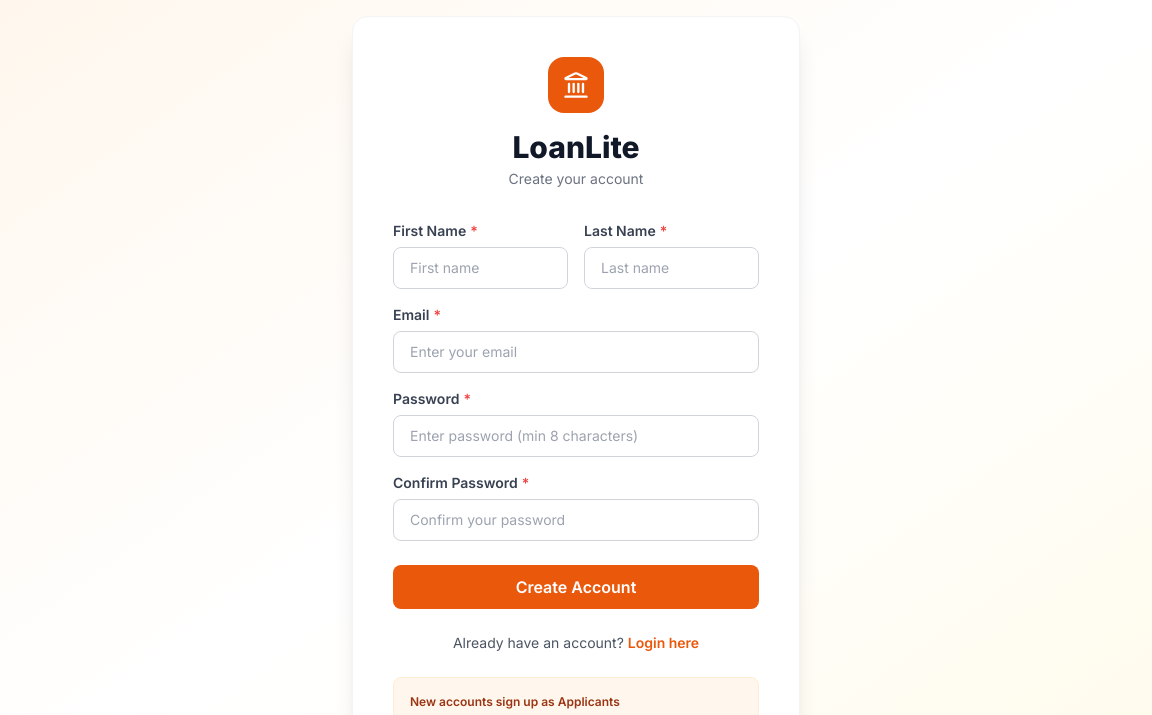
it: Signup — validation › rejects mismatched password confirmation
Type "Ada" into the field labelled "First Name*" at x=480, y=268, box 393,247 -> 568,289
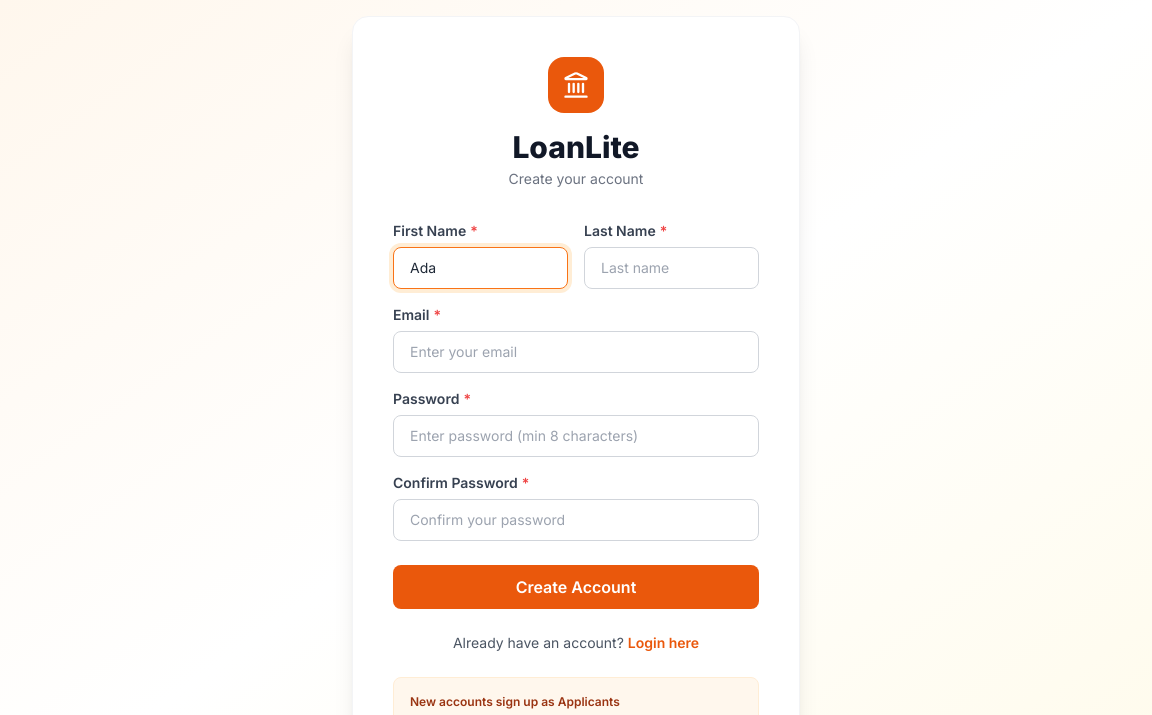
Type "Lovelace" into the field labelled "Last Name*" at x=672, y=268, box 584,247 -> 759,289
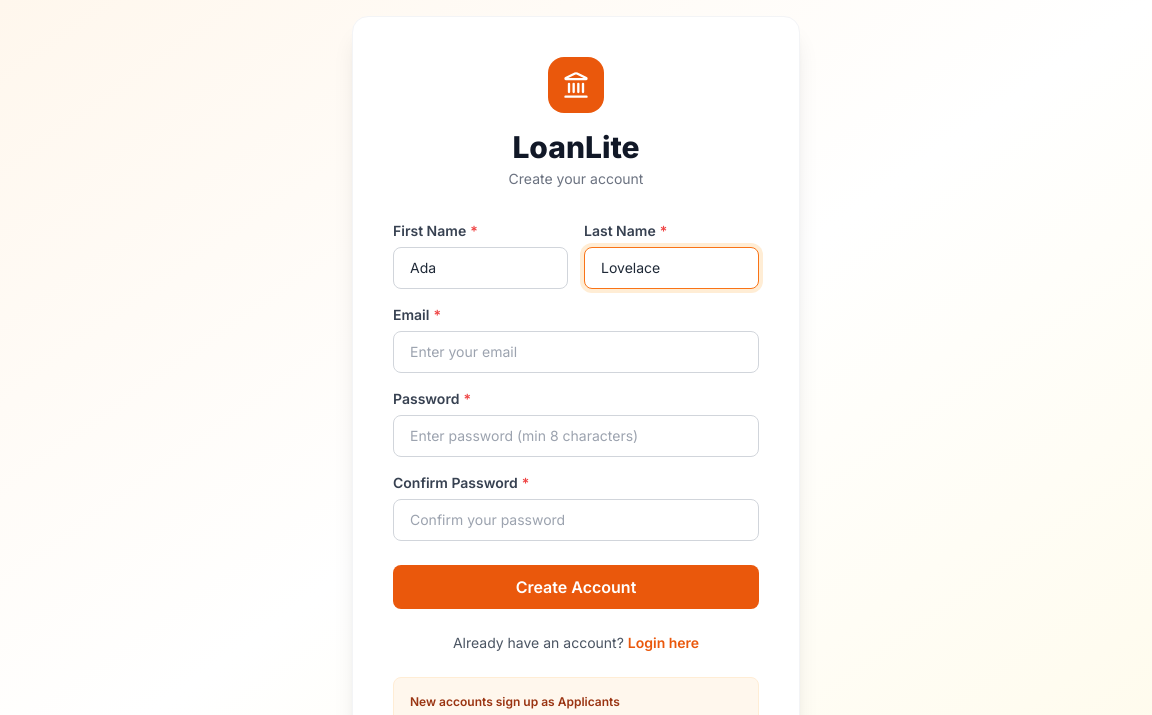
Type "ada@example.com" into the field labelled "Email*" at x=576, y=352, box 393,331 -> 759,373
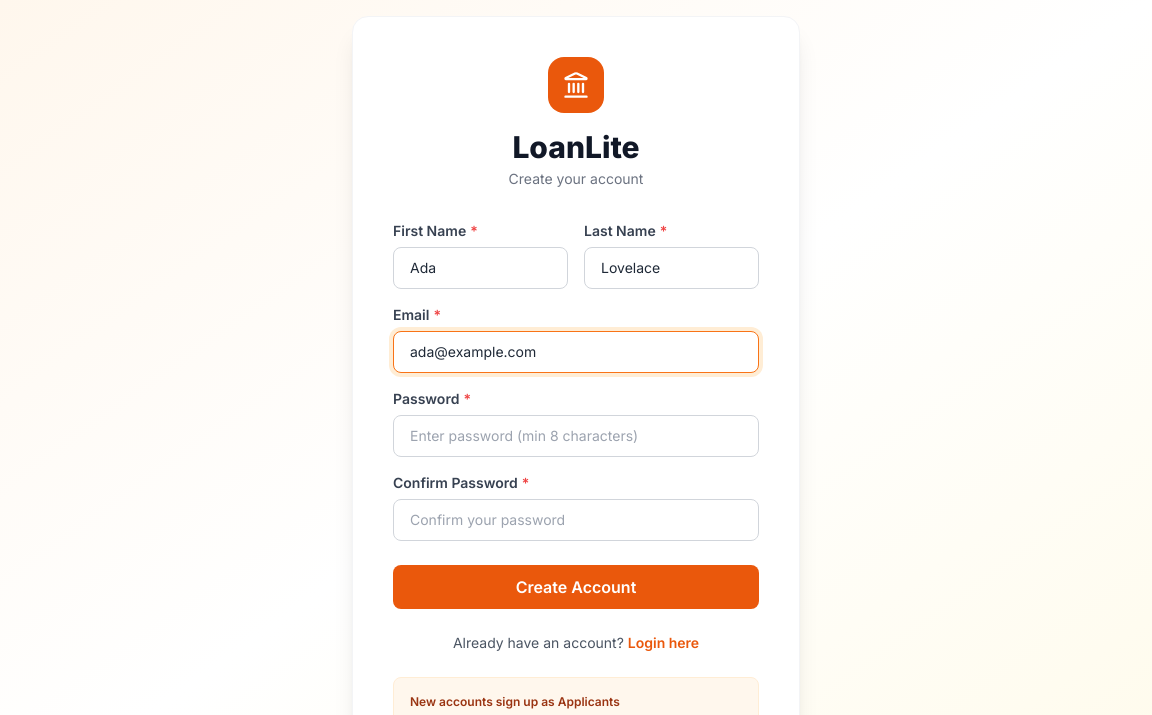
Type "password123" into the password field labelled "Password*" at x=576, y=436, box 393,415 -> 759,457
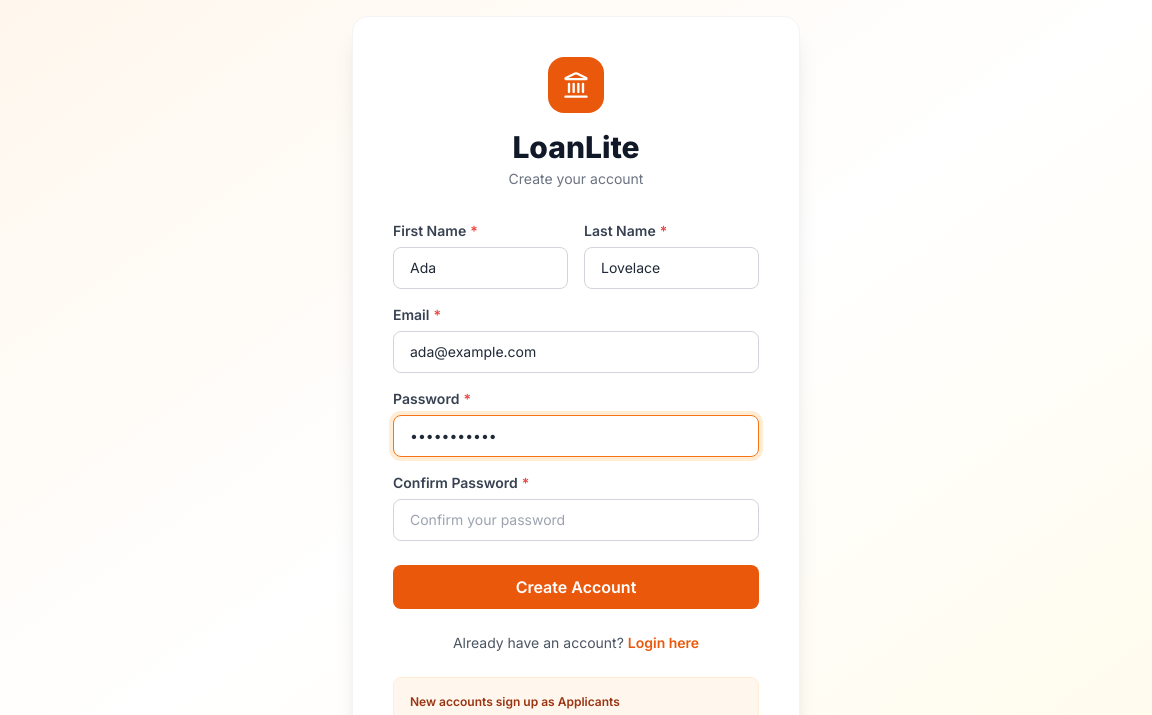
Type "different123" into the password field labelled "Confirm Password*" at x=576, y=520, box 393,499 -> 759,541
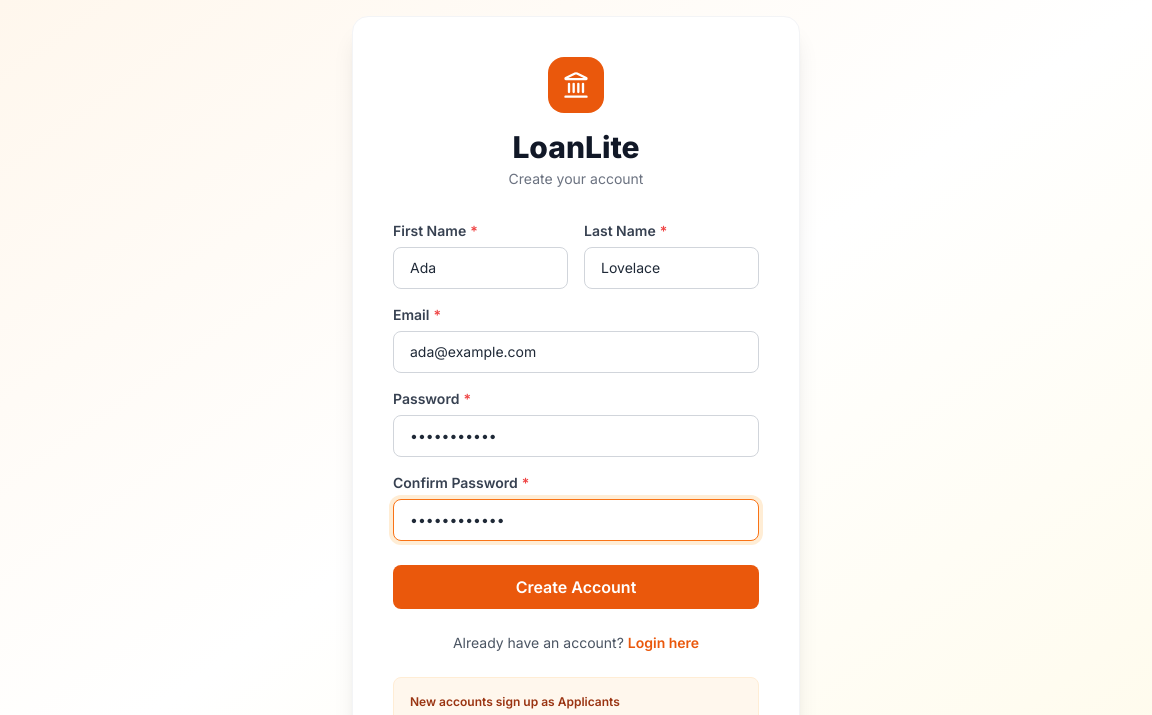
Click the button "Create Account" at x=576, y=587, box 393,565 -> 759,609
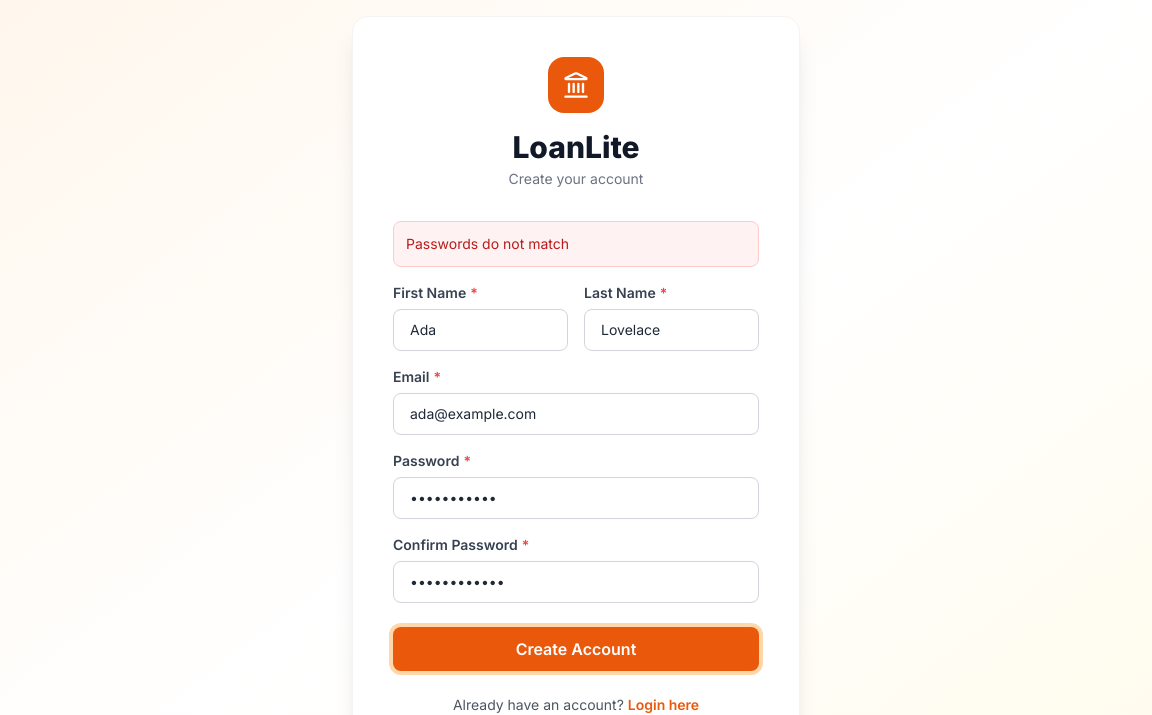
Now the text "Passwords do not match" is shown, box 393,221 -> 759,267
